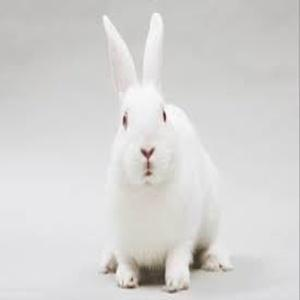rabbit: (98, 13, 235, 293)
